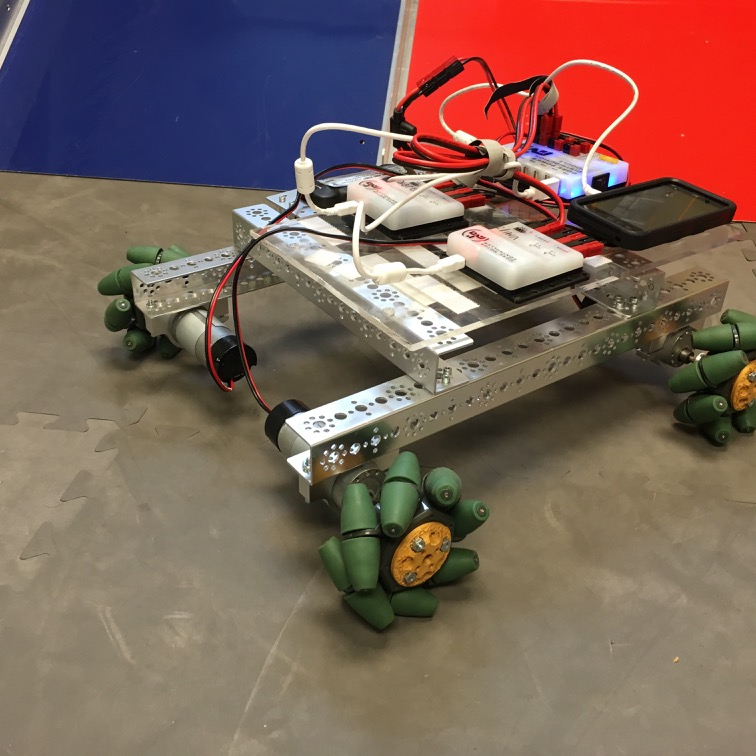robot: (96, 45, 756, 638)
